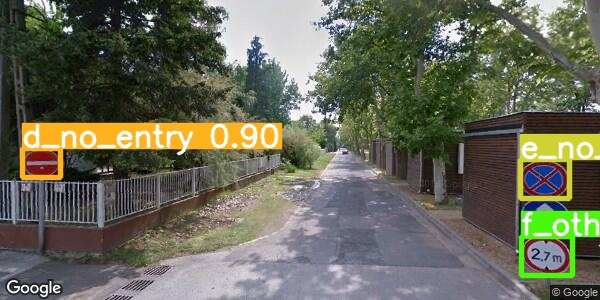d_no_entry: (22, 149, 60, 178)
e_no_stop_park: (520, 159, 570, 199)
f_others: (522, 236, 571, 276)
